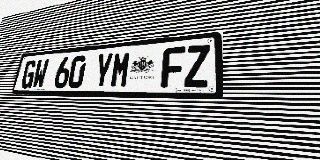0: (67, 55, 87, 88)
6: (53, 56, 72, 88)
F: (161, 46, 185, 88)
G: (20, 60, 37, 89)
M: (109, 51, 132, 88)
W: (31, 58, 49, 89)
Y: (92, 53, 114, 88)
Z: (184, 44, 210, 88)
